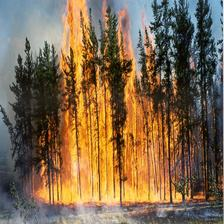fire: (26, 9, 204, 207)
